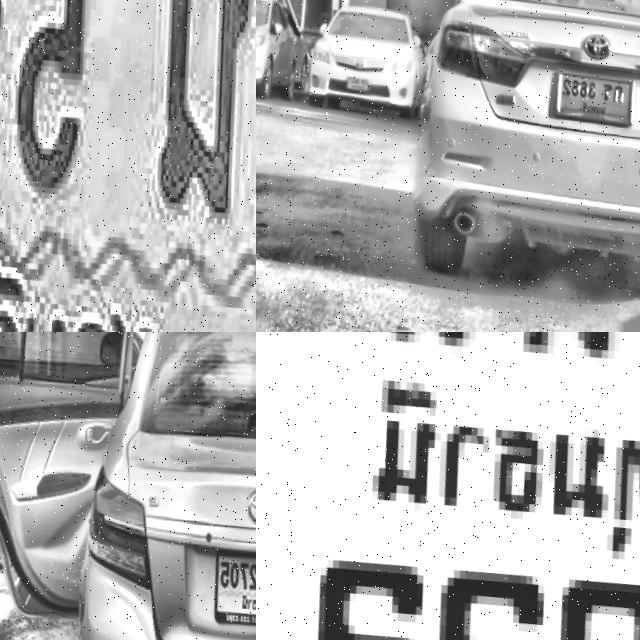license-plate: (256, 332, 640, 640), (0, 0, 256, 332), (195, 539, 256, 638), (547, 70, 633, 130), (336, 73, 368, 94)
